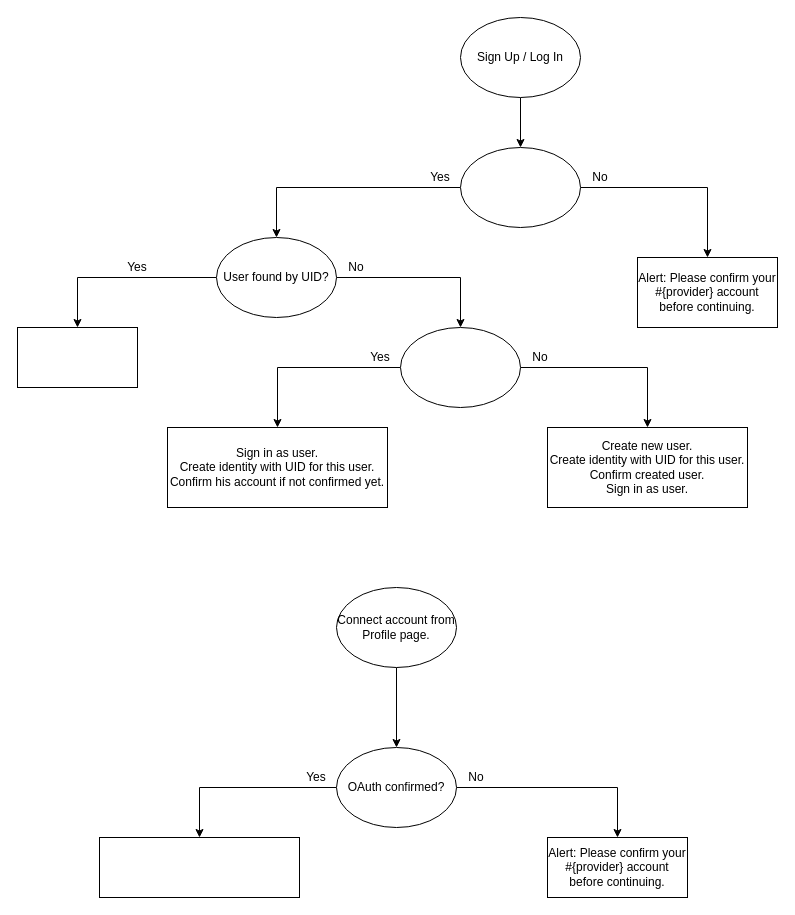
The diagram is 795 pixels wide and 915 high, and some of its shapes have lost their labels. The shapes that lost their labels are listed below. From the top down, each one's centre as x and y in pixels, then its label:
point (520, 187): Omniauth confirmed?
point (77, 357): Sign in as user
point (460, 367): User found by email ?
point (199, 867): Connect account. Confirm user if user email is eq to oauth email.
